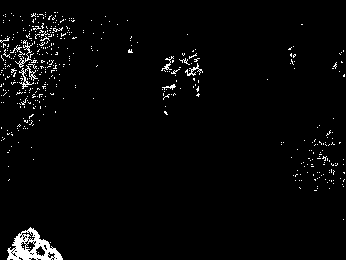person: (160, 58, 175, 114)
